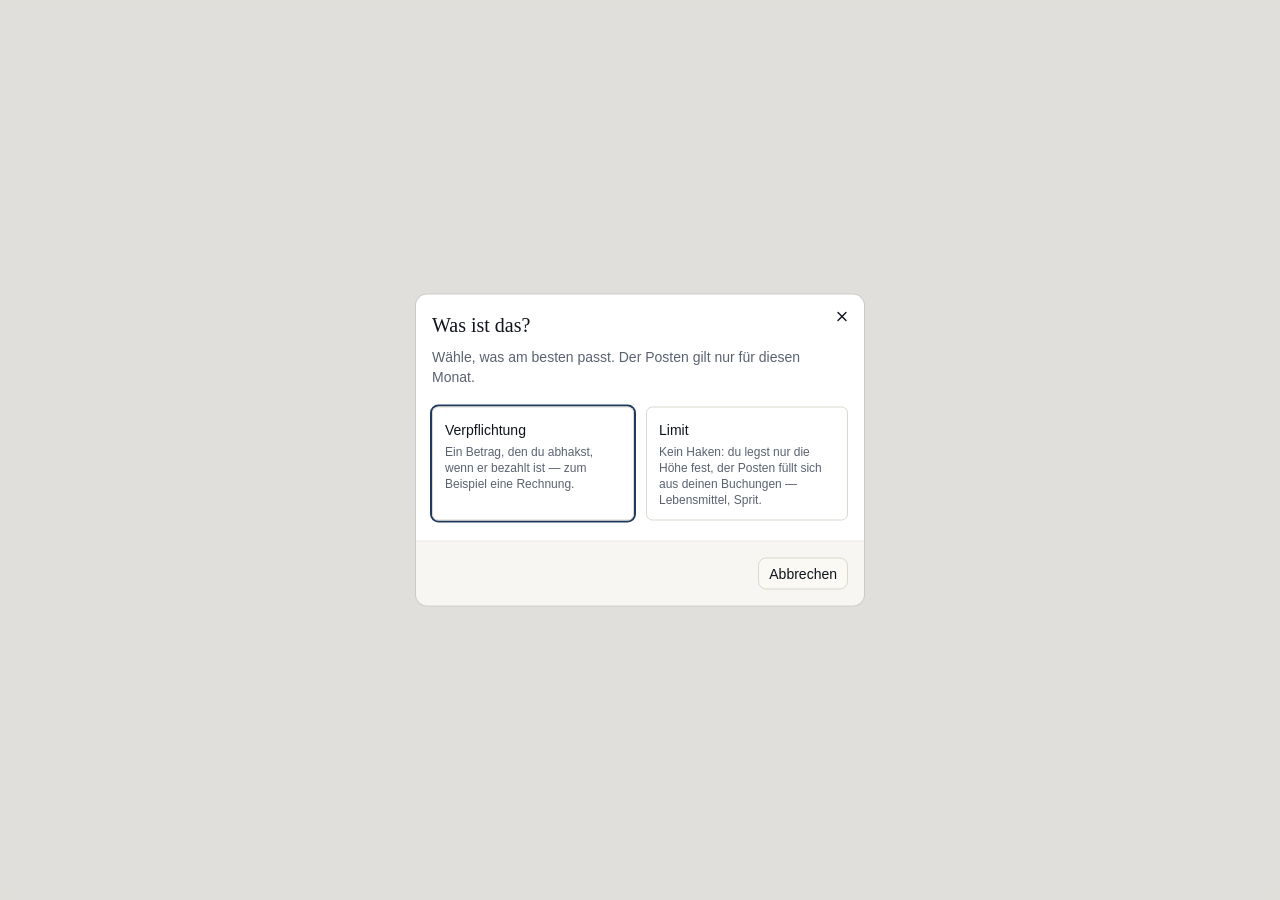
Test case: PositionDialog kind › a Verpflichtung names the due day in its main sentence, a Limit names it in the second sentence
Click the button "Verpflichtung": coordinates (533, 464) x1=432 y1=406 x2=634 y2=520
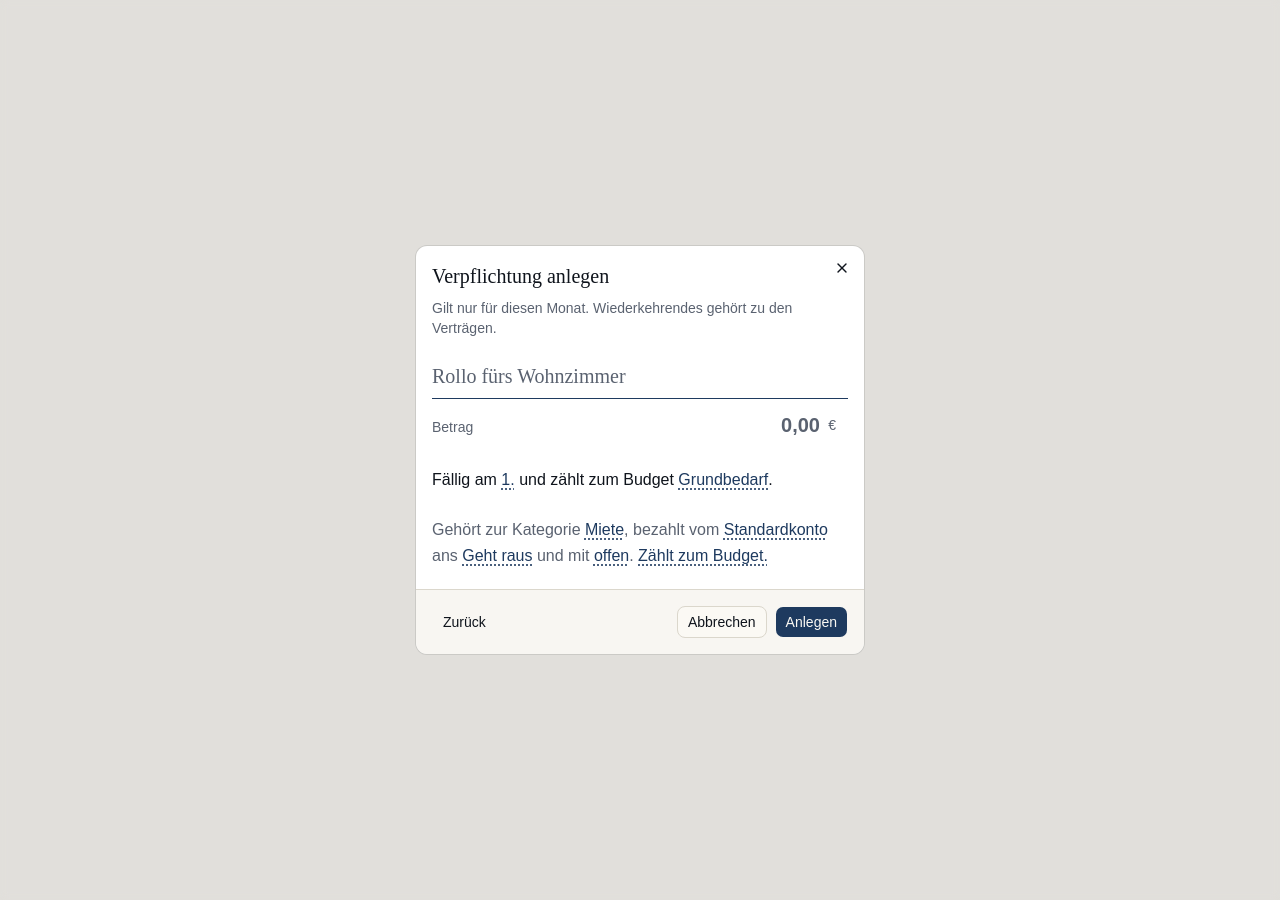
Expected: the dialog "Verpflichtung anlegen" is shown, x1=416 y1=246 x2=864 y2=654
Expected: the button "1." is shown, x1=499 y1=467 x2=517 y2=493
Click the button "Zurück": coordinates (464, 622) x1=432 y1=606 x2=497 y2=638
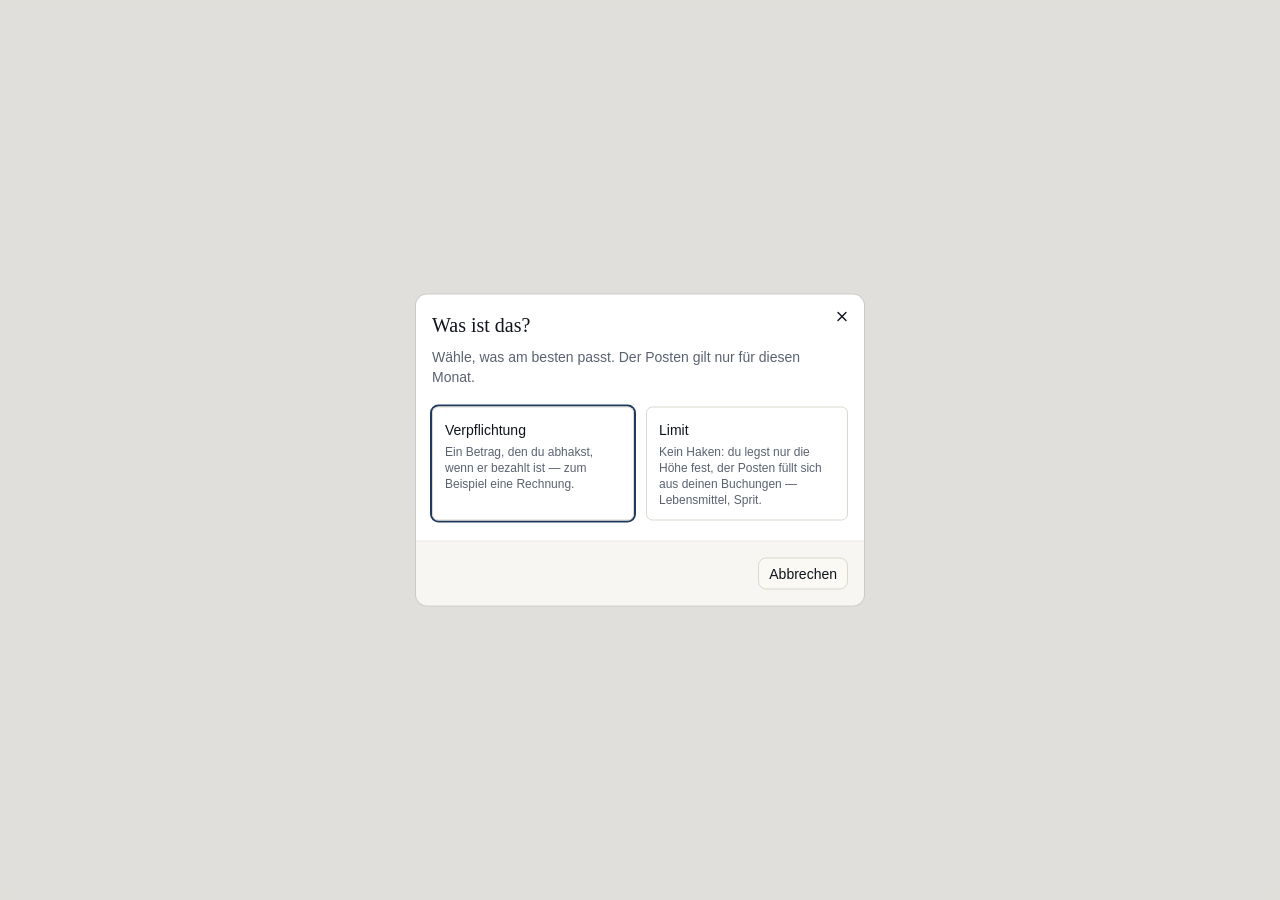
Click the button "Limit": coordinates (747, 464) x1=646 y1=406 x2=848 y2=520
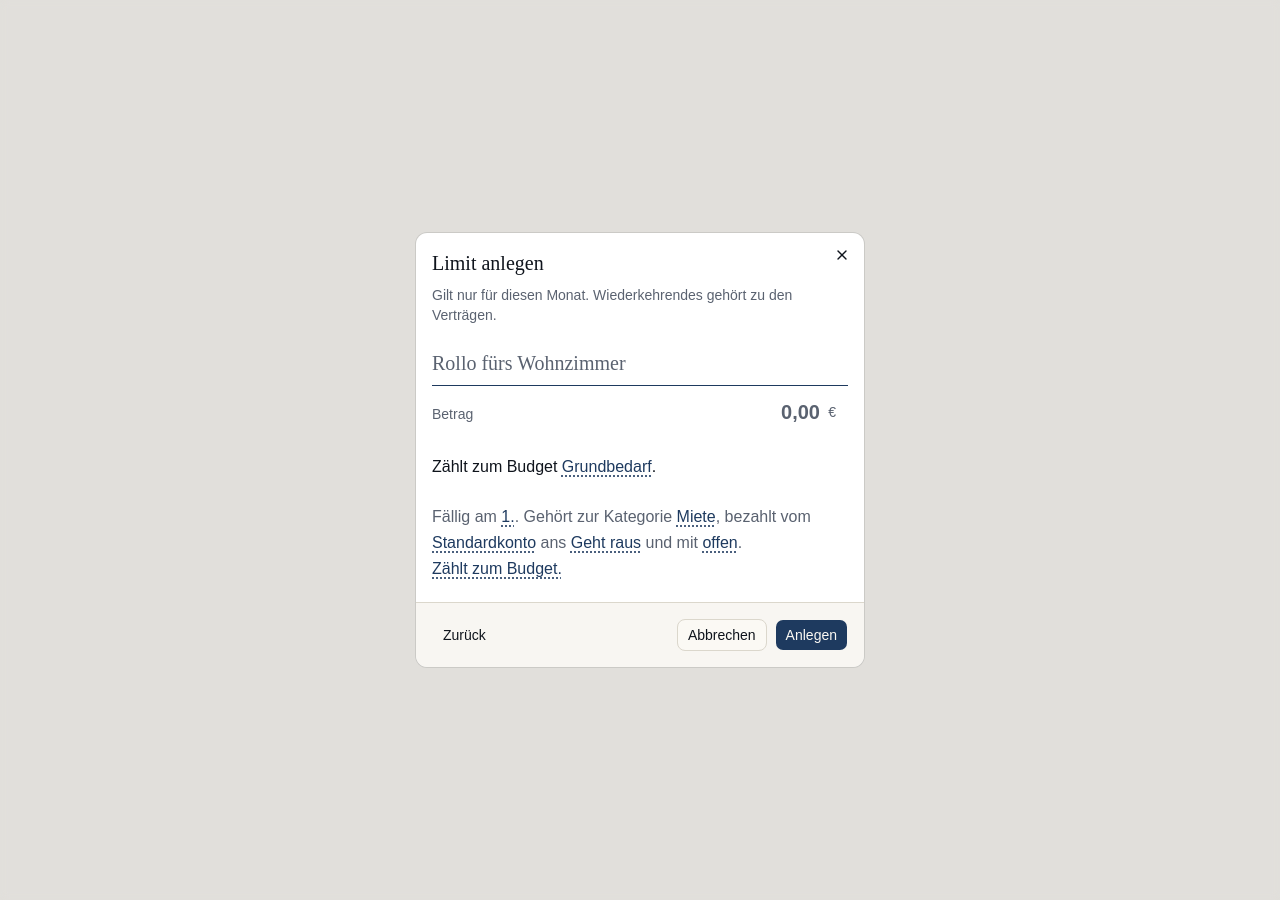
Expected: the dialog "Limit anlegen" is shown, x1=416 y1=233 x2=864 y2=667
Expected: the button "1." is shown, x1=499 y1=504 x2=517 y2=530
